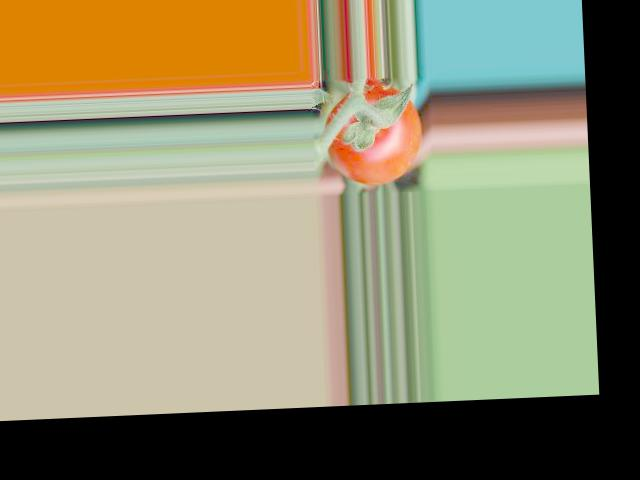tomato: (322, 77, 424, 185)
